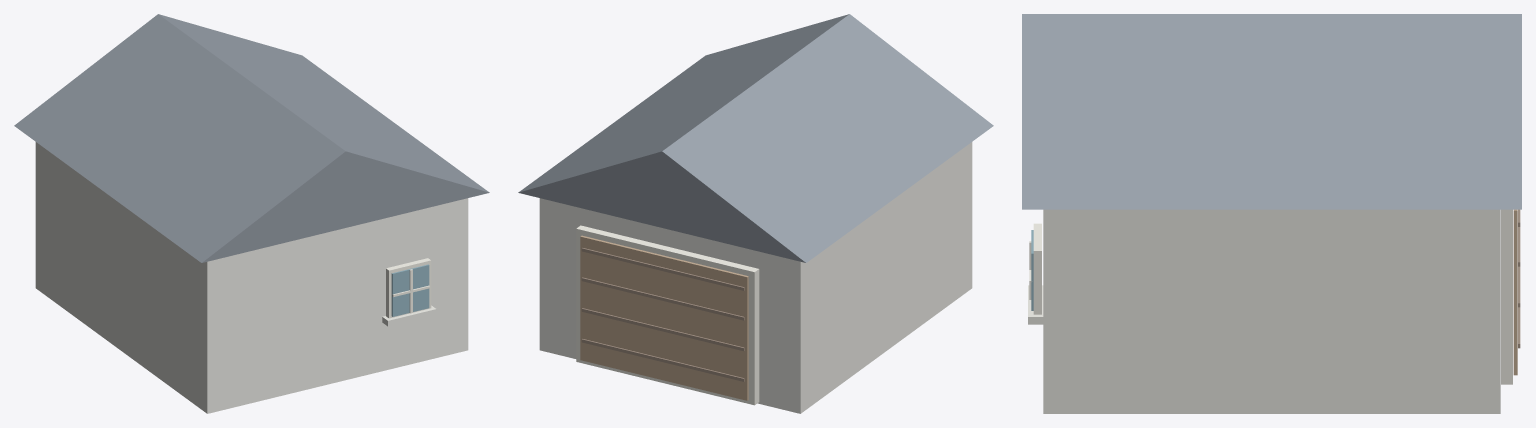
File: Garage_Detached.glb
3 views of the same model, side by side, from view 1: azimuth 30°, elevation 25°; view 2: azimuth 150°, elevation 25°; view 3: azimuth 270°, elevation 25° (orthographic). The views are drawn at different scales.
Visible parts, largest first — view 1: 001_gable_roof_001, 000_garage_shell_000, 009_window_glass_009, 008_window_trim_008, 012_sill_012; view 2: 001_gable_roof_001, 000_garage_shell_000, 003_garage_door_003, 002_garage_trim_002, 006_door_panel_line_006, 007_door_panel_line_007, 004_door_panel_line_004, 005_door_panel_line_005; view 3: 001_gable_roof_001, 000_garage_shell_000, 002_garage_trim_002, 003_garage_door_003, 008_window_trim_008.
Boxes of the visible parts, <box> form: 001_gable_roof_001: <box>14,14,489,262</box>; 000_garage_shell_000: <box>35,142,468,413</box>; 009_window_glass_009: <box>391,264,429,316</box>; 008_window_trim_008: <box>386,258,431,318</box>; 012_sill_012: <box>382,305,436,326</box>; 001_gable_roof_001: <box>518,14,993,262</box>; 000_garage_shell_000: <box>539,142,972,413</box>; 003_garage_door_003: <box>580,235,748,400</box>; 002_garage_trim_002: <box>576,225,759,405</box>; 006_door_panel_line_006: <box>581,277,744,320</box>; 007_door_panel_line_007: <box>581,248,744,290</box>; 004_door_panel_line_004: <box>581,339,744,381</box>; 005_door_panel_line_005: <box>581,308,744,351</box>; 001_gable_roof_001: <box>1022,14,1521,209</box>; 000_garage_shell_000: <box>1043,209,1500,413</box>; 002_garage_trim_002: <box>1501,209,1512,384</box>; 003_garage_door_003: <box>1513,209,1517,375</box>; 008_window_trim_008: <box>1033,223,1041,314</box>.
Size of the model in its own units: 6.3 by 4.94 by 7.1.
